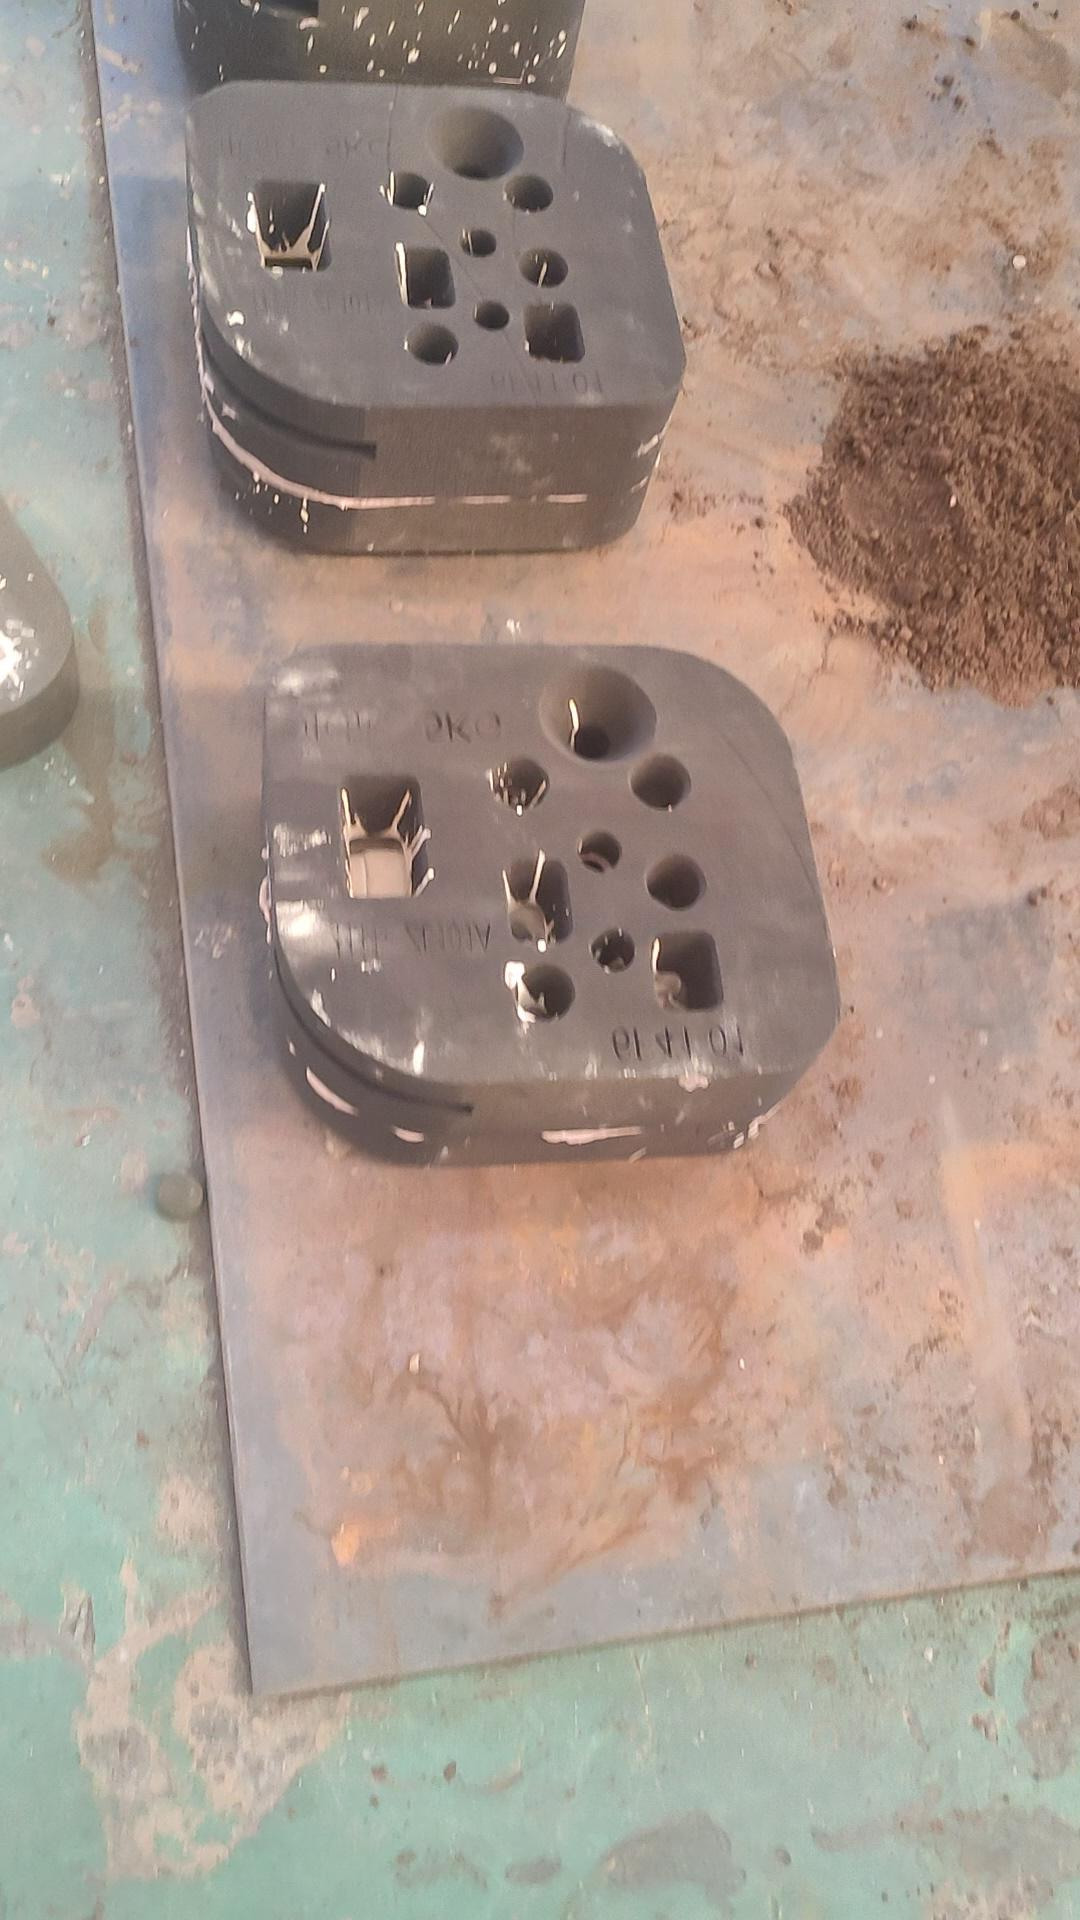pouring hole: (533, 662, 662, 766), (425, 105, 527, 183)
